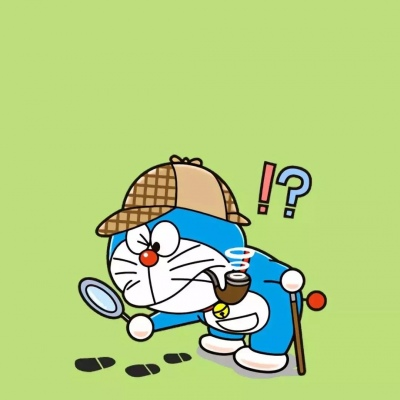Doraemon: (67, 144, 340, 384)
